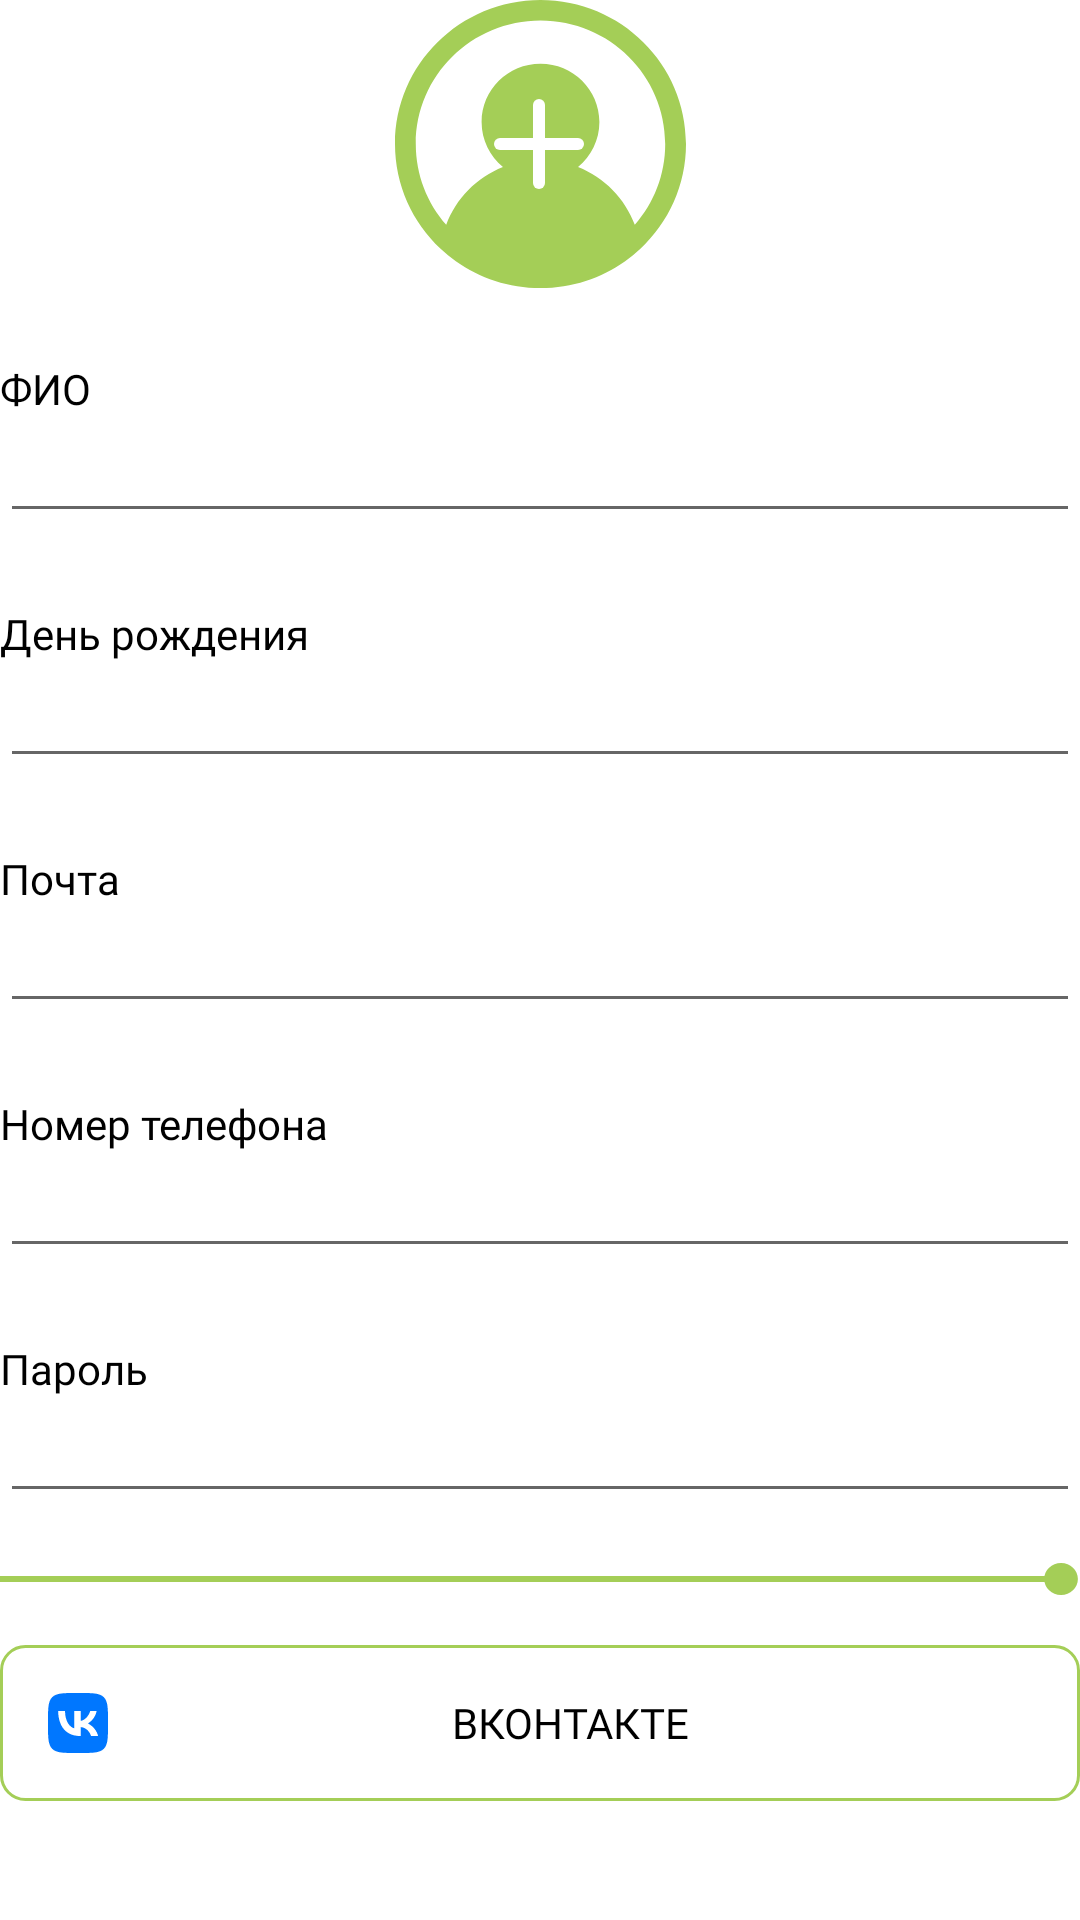

Icon bounding boxes for this 1080 × 1920 phone screenshot, format (x1, y1, x2, y2):
prof: (395, 0, 686, 288)
